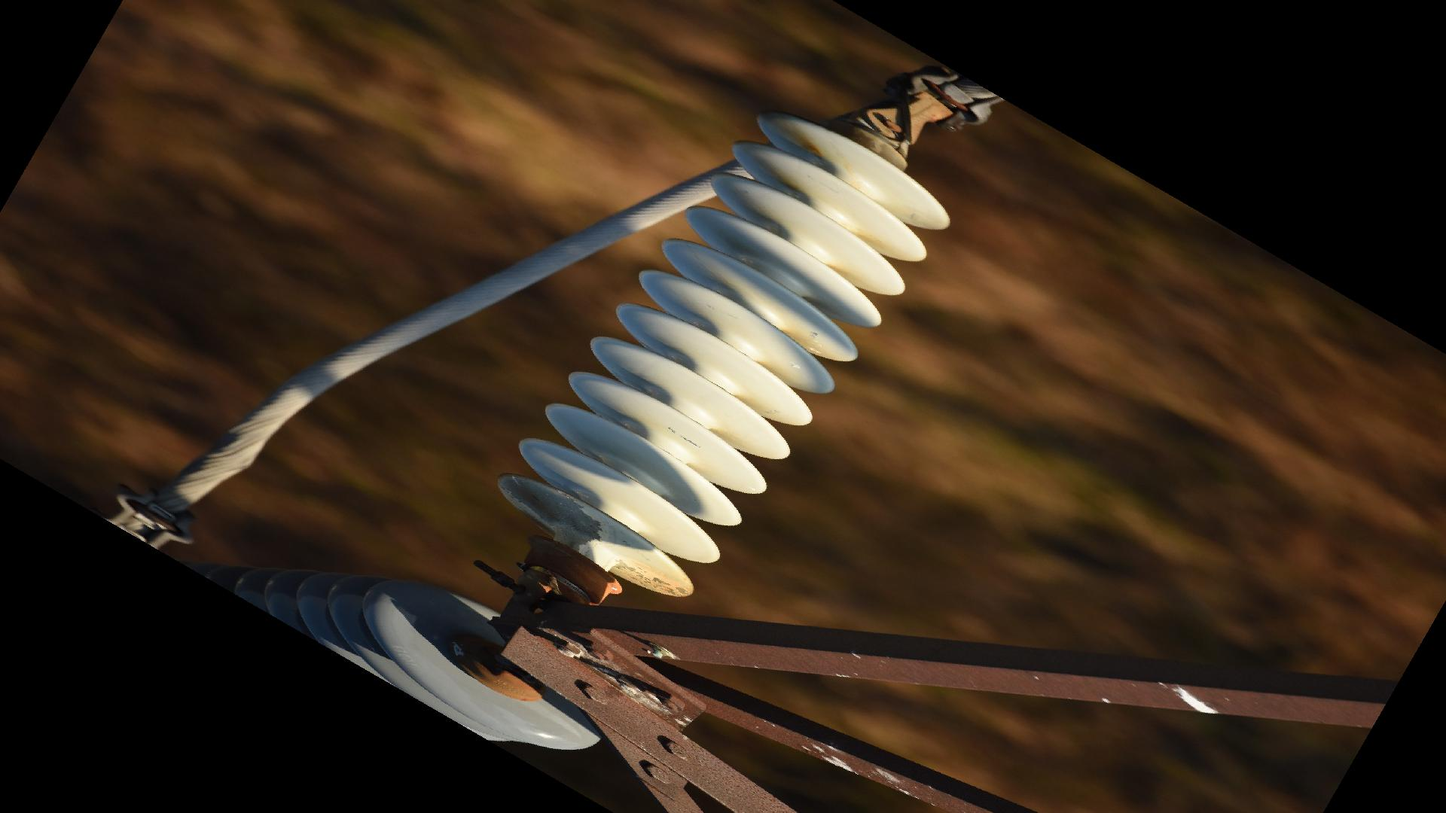insulator: (487, 102, 958, 607), (202, 559, 616, 763)
insulator_flashover: (496, 470, 604, 546)
